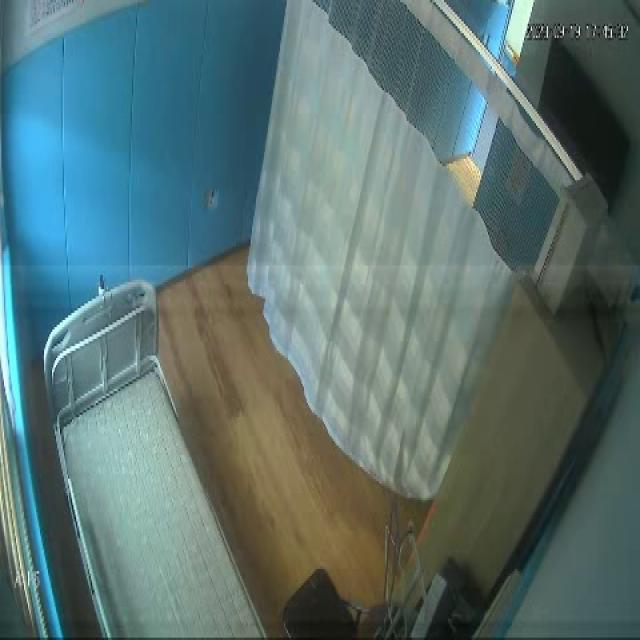bed: (44, 278, 267, 640)
